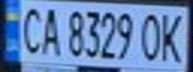2: (100, 8, 121, 60)
3: (81, 7, 103, 58)
8: (63, 6, 84, 58)
9: (115, 8, 139, 61)
A: (36, 3, 63, 56)
C: (15, 2, 45, 55)
K: (157, 9, 187, 63)
O: (136, 9, 166, 62)
